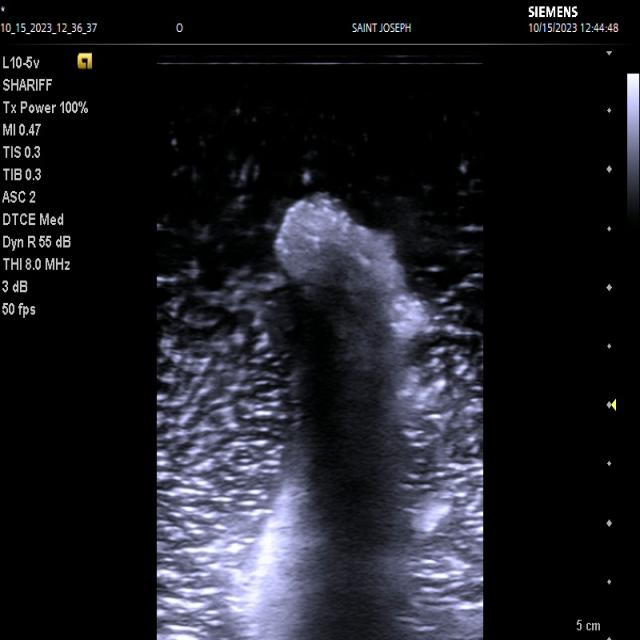tissue: (234, 193, 422, 640)
